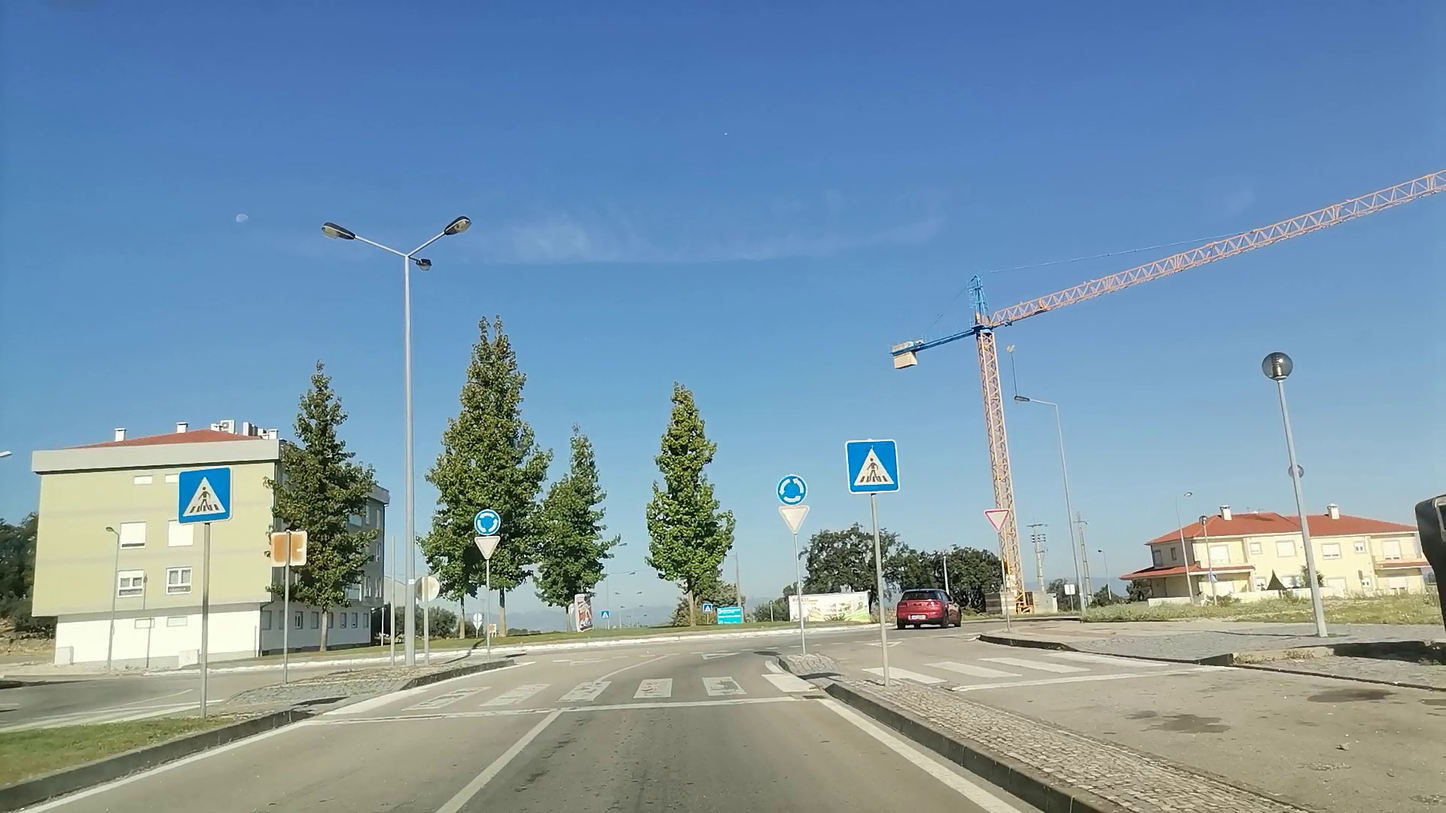Stairs: (326, 672, 822, 718), (866, 652, 1181, 695)
